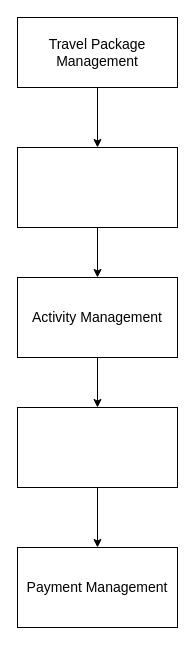
Image size: 195x645. Some labels were removed from this diagram. Each missing label, with the centre of its shape:
Destination Management: (x=97, y=187)
Passenger Management: (x=97, y=447)
